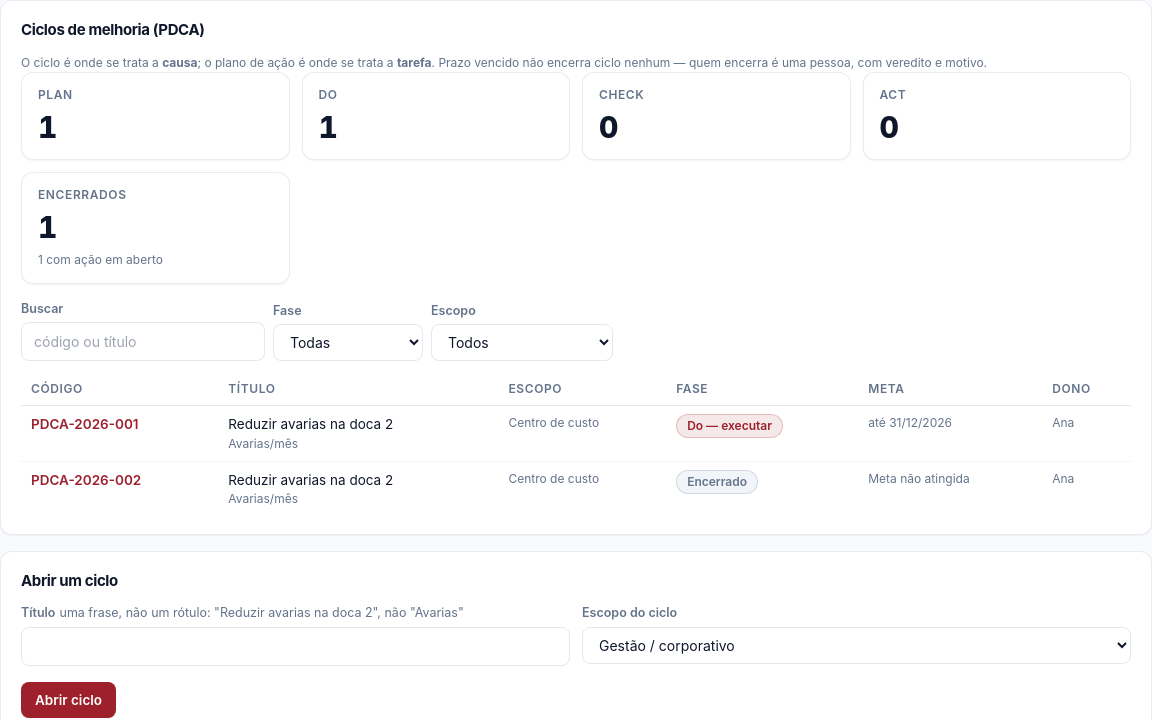
Test: <Melhoria /> › filtra por fase e escopo, e o limpar aparece só quando há filtro
Expected: the table with test id "tabela-ciclos" is shown, top-left (21, 373), bottom-right (1131, 516)
Expected: the button "Limpar" is not shown
Select "Plan — planejar" in the dropdown labelled "Fase" at (348, 343), box top-left (273, 324), bottom-right (423, 361)
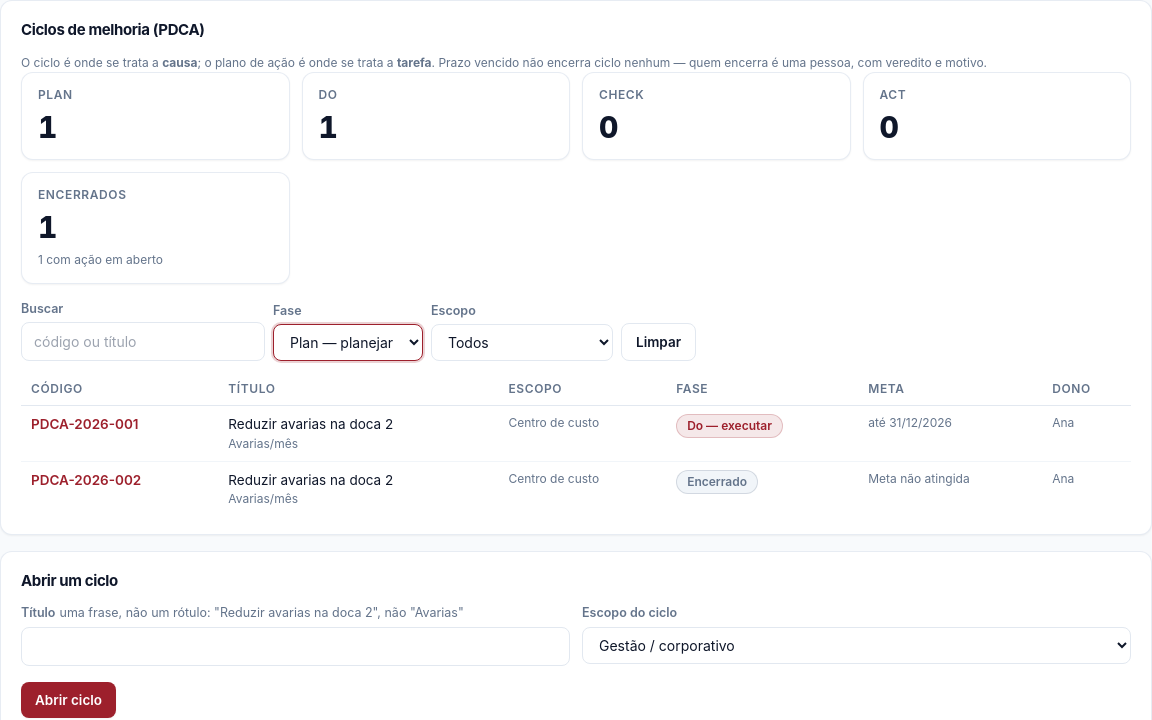
Expected: the button "Limpar" is shown, top-left (621, 323), bottom-right (696, 361)
